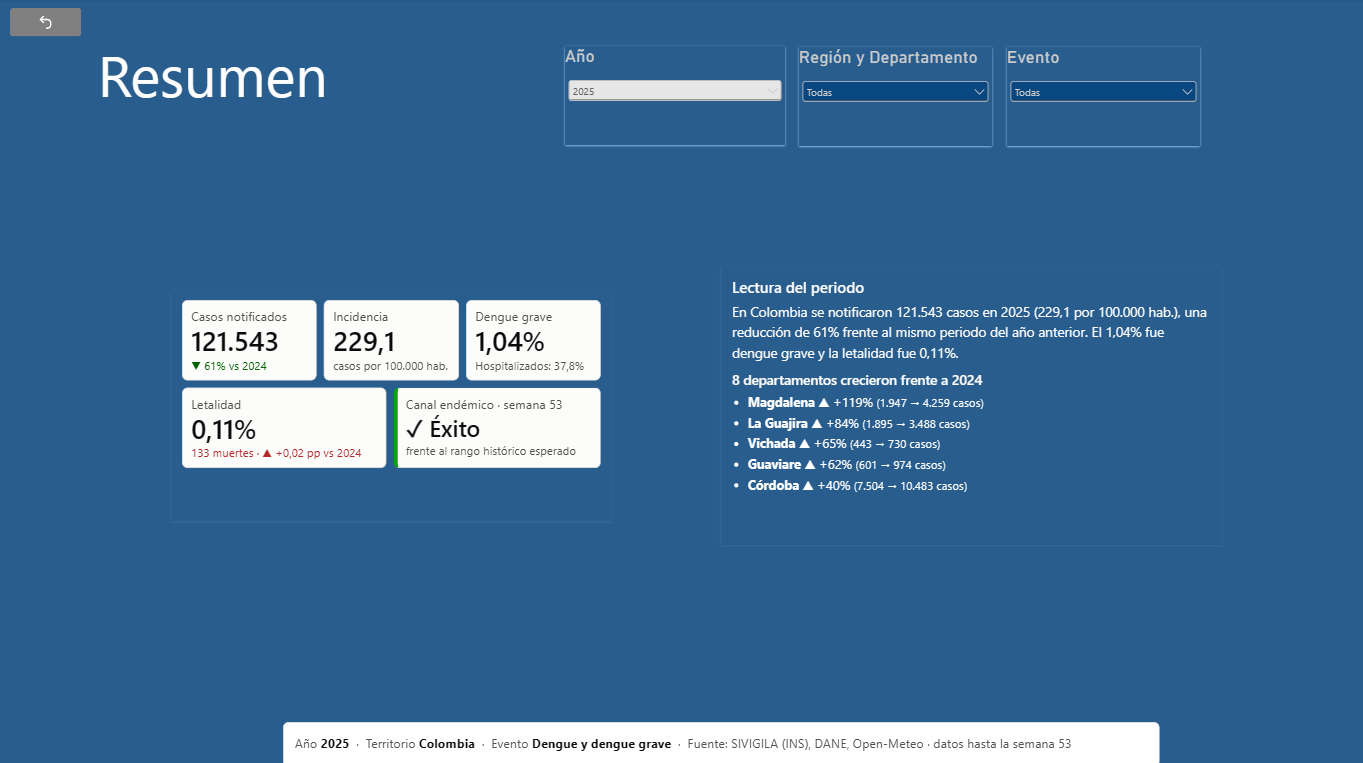

The page's visual inventory and layout, read from the dashboard file:
{"tool":"powerbi","page":{"name":"Página 1","canvas":[1920,1080],"ordinal":0},"visuals":[{"type":"htmlContent443BE3AD55E043BF878BED274D3A6855","fields":{"content":["_Medidas.HTML Contexto"]},"box":[396.8,1016.9,1231.4,62.7],"z":0},{"type":"htmlContent443BE3AD55E043BF878BED274D3A6855","fields":{"content":["_Medidas.HTML P1 KPIs"]},"box":[240.7,410,620.1,325.3],"z":1000},{"type":"htmlContent443BE3AD55E043BF878BED274D3A6855","fields":{"content":["_Medidas.HTML P1 Resumen"]},"box":[1012.5,376.4,703.2,392.5],"z":1001},{"type":"textbox","box":[46.7,54,504.8,116.7],"z":1002},{"type":"slicer","title":"Región y Departamento","fields":{"Values":["dim_departamento.region","dim_departamento.departamento"]},"box":[1121.9,68.6,271.4,138.6],"z":1004},{"type":"slicer","title":"Evento","fields":{"Values":["dim_evento.evento"]},"box":[1413.7,68.6,271.4,138.6],"z":1005},{"type":"actionButton","box":[14.6,14.6,100,40],"z":1006},{"type":"slicer","title":"Año","fields":{"Values":["dim_tiempo.anio"]},"box":[793.7,68.1,309.3,138.6],"z":1007}]}

Visuals, with their boxes in screenshot pixels (x1, y1, x2, y2), scaled from the page's 1920x1080 canvas onto the 1363x763 screenshot:
htmlContent443BE3AD55E043BF878BED274D3A6855 - _Medidas.HTML Contexto: (282,718,1156,762)
htmlContent443BE3AD55E043BF878BED274D3A6855 - _Medidas.HTML P1 KPIs: (171,290,611,519)
htmlContent443BE3AD55E043BF878BED274D3A6855 - _Medidas.HTML P1 Resumen: (719,266,1218,543)
textbox: (33,38,392,121)
"Región y Departamento" slicer: (796,48,989,146)
"Evento" slicer: (1004,48,1196,146)
actionButton: (10,10,81,39)
"Año" slicer: (563,48,783,146)
